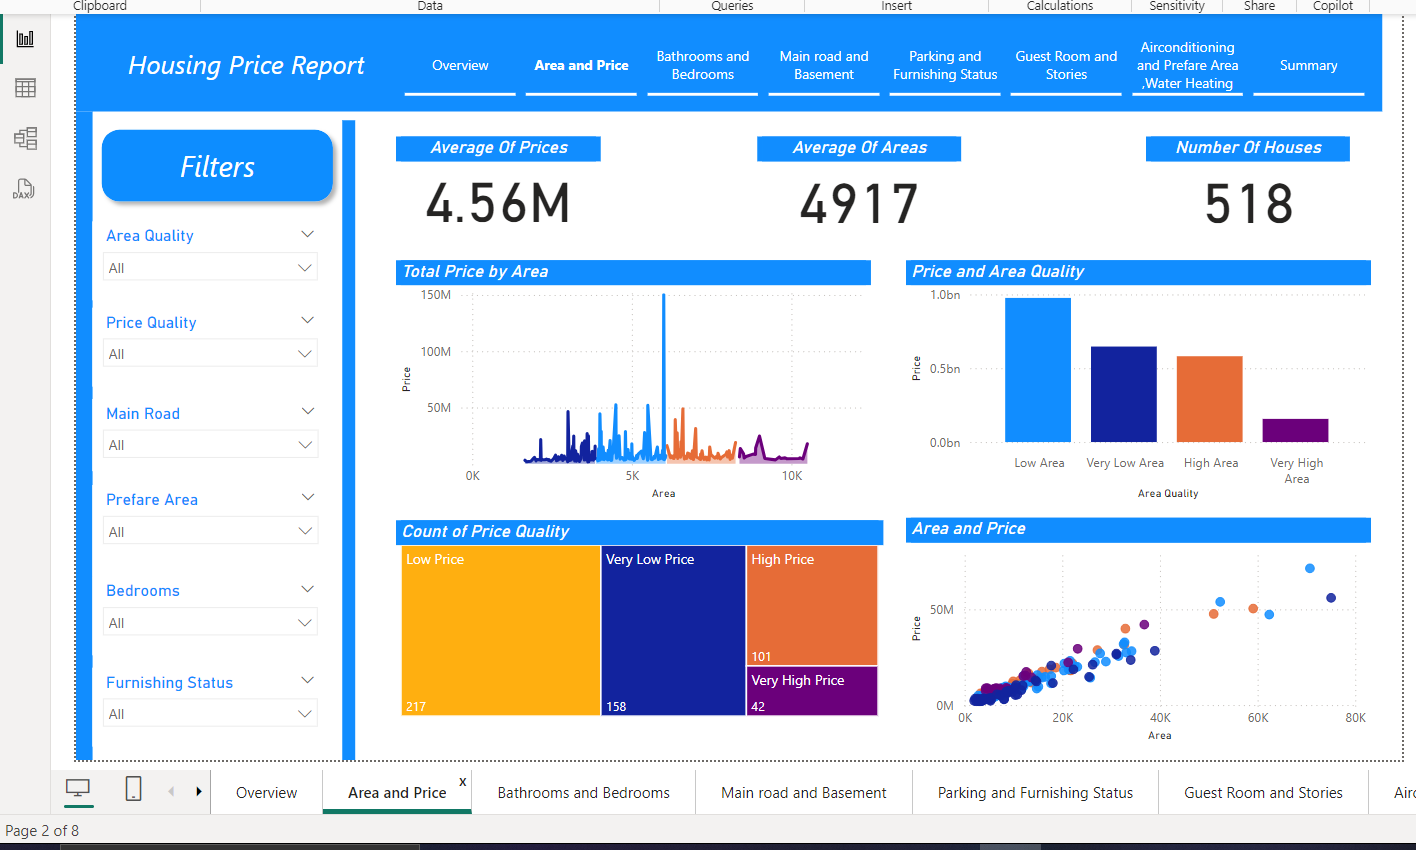

This screenshot's page, from the dashboard's own definition file:
{"tool":"powerbi","page":{"name":"Area and Price","canvas":[1280,720],"ordinal":1},"visuals":[{"type":"shape","box":[0,93.8,16.2,626.2],"z":0},{"type":"shape","box":[16.2,102.5,241.2,87.5],"z":1000},{"type":"slicer","fields":{"Values":["Housing_Prices_Cleaned.Area Quality"]},"box":[16.2,200,227.5,76.2],"z":2000},{"type":"shape","box":[257.5,102.5,12.5,617.5],"z":3000},{"type":"slicer","fields":{"Values":["Housing_Prices_Cleaned.Price Quality"]},"box":[16.2,283.8,227.5,76.2],"z":4000},{"type":"slicer","fields":{"Values":["Housing_Prices_Cleaned.Main Road"]},"box":[15.7,371.6,228,70],"z":5000},{"type":"slicer","fields":{"Values":["Housing_Prices_Cleaned.Prefare Area"]},"box":[15.7,454.8,228,88.1],"z":6000},{"type":"slicer","fields":{"Values":["Housing_Prices_Cleaned.Bedrooms"]},"box":[16.2,542.5,227.5,76.2],"z":7000},{"type":"slicer","fields":{"Values":["Housing_Prices_Cleaned.Furnishing Status"]},"box":[16.2,631.2,227.5,76.2],"z":8000},{"type":"card","title":"Average Of Prices","fields":{"Values":["Avg(Housing_Prices_Cleaned.Price)"]},"box":[308.8,118.8,197.5,95],"z":9000},{"type":"card","title":"Average Of Areas","fields":{"Values":["Avg(Housing_Prices_Cleaned.Area)"]},"box":[657.5,118.2,196.6,95.3],"z":10000},{"type":"card","title":"Number Of Houses","fields":{"Values":["CountNonNull(Housing_Prices_Cleaned.Area)"]},"box":[1032.7,118.2,196.6,95.3],"z":11000},{"type":"shape","box":[0,0,1260.7,94.1],"z":12000},{"type":"areaChart","title":"Total Price by Area ","fields":{"Category":["Housing_Prices_Cleaned.Area"],"Y":["Sum(Housing_Prices_Cleaned.Price)"],"Series":["Housing_Prices_Cleaned.Area Quality"]},"box":[308.8,237.7,458.4,236.5],"z":13000},{"type":"treemap","title":"Count of Price Quality ","fields":{"Values":["CountNonNull(Housing_Prices_Cleaned.Price Quality)"],"Group":["Housing_Prices_Cleaned.Price Quality"]},"box":[308.8,488.6,470.5,194.2],"z":14000},{"type":"scatterChart","title":"Area and  Price ","fields":{"X":["Sum(Housing_Prices_Cleaned.Area)"],"Y":["Sum(Housing_Prices_Cleaned.Price)"],"Series":["Housing_Prices_Cleaned.Price Quality"],"Category":["Housing_Prices_Cleaned.Price"]},"box":[801.1,486.2,448.8,220.8],"z":15000},{"type":"columnChart","title":" Price and Area Quality ","fields":{"Y":["Sum(Housing_Prices_Cleaned.Price)"],"Category":["Housing_Prices_Cleaned.Area Quality"],"Series":["Housing_Prices_Cleaned.Area Quality"]},"box":[801.1,237.7,448.8,236.5],"z":16000},{"type":"pageNavigator","box":[317.3,18.1,927.8,61.5],"z":17000}]}

Visuals, with their boxes on the page's 1280x720 design canvas (x1, y1, x2, y2). These are canvas units, not pixel positions in the 1416x850 screenshot, which may show the page scaled, cropped or inside an application window:
shape: (0, 94, 16, 720)
shape: (16, 102, 257, 190)
slicer - Housing_Prices_Cleaned.Area Quality: (16, 200, 244, 276)
shape: (258, 102, 270, 720)
slicer - Housing_Prices_Cleaned.Price Quality: (16, 284, 244, 360)
slicer - Housing_Prices_Cleaned.Main Road: (16, 372, 244, 442)
slicer - Housing_Prices_Cleaned.Prefare Area: (16, 455, 244, 543)
slicer - Housing_Prices_Cleaned.Bedrooms: (16, 542, 244, 619)
slicer - Housing_Prices_Cleaned.Furnishing Status: (16, 631, 244, 707)
"Average Of Prices" card: (309, 119, 506, 214)
"Average Of Areas" card: (658, 118, 854, 214)
"Number Of Houses" card: (1033, 118, 1229, 214)
shape: (0, 0, 1261, 94)
"Total Price by Area " areaChart: (309, 238, 767, 474)
"Count of Price Quality " treemap: (309, 489, 779, 683)
"Area and  Price " scatterChart: (801, 486, 1250, 707)
" Price and Area Quality " columnChart: (801, 238, 1250, 474)
pageNavigator: (317, 18, 1245, 80)
